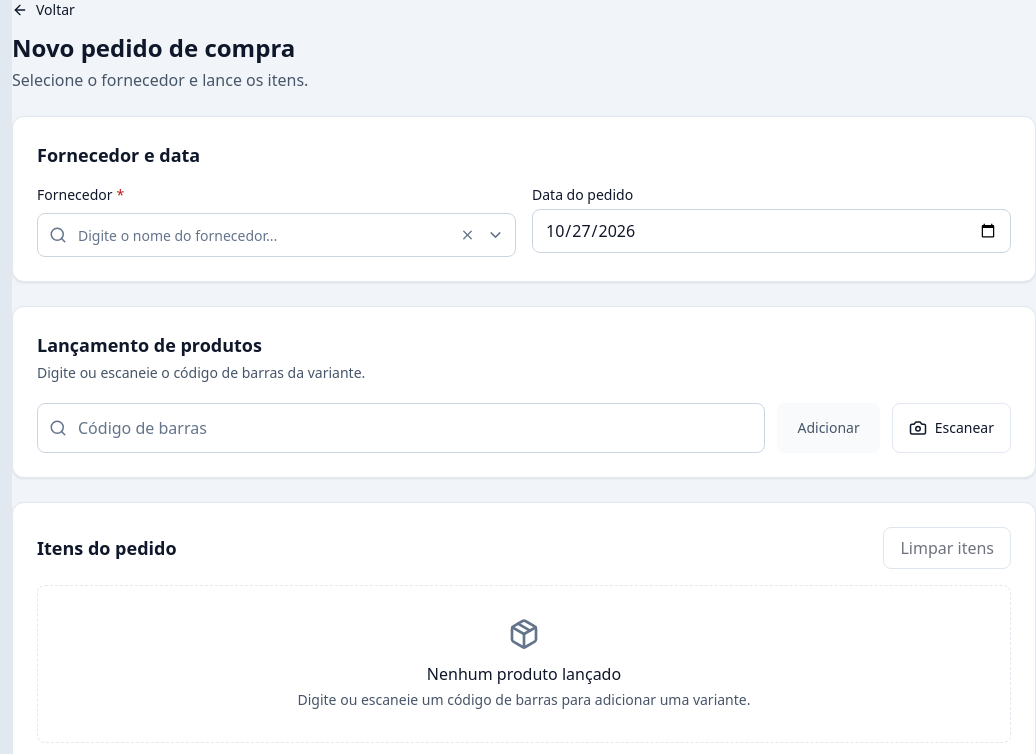
Test: PurchaseCreatePage › despesas da compra inválidas bloqueiam o envio
The width and height of the screenshot is (1036, 754).
Type "Acm" into the dropdown with placeholder "Digite o nome do fornecedor..." at (276, 235), box x1=37 y1=213 x2=516 y2=257
(page scrolled)
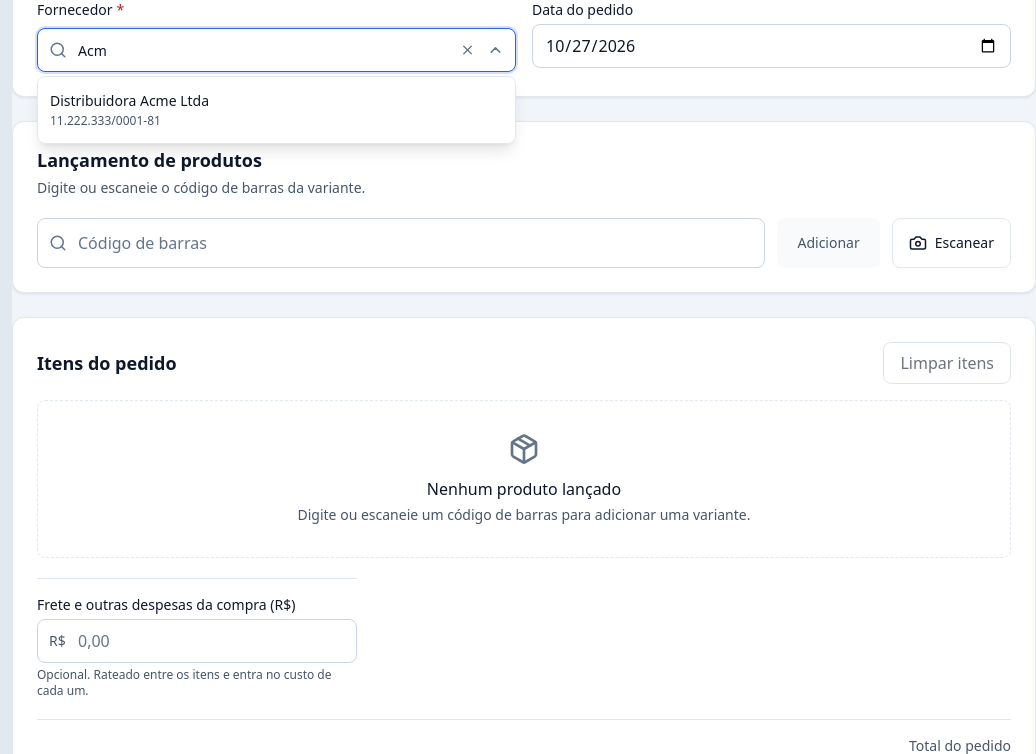
Click the text "Distribuidora Acme Ltda" at (130, 101), box x1=50 y1=91 x2=209 y2=111
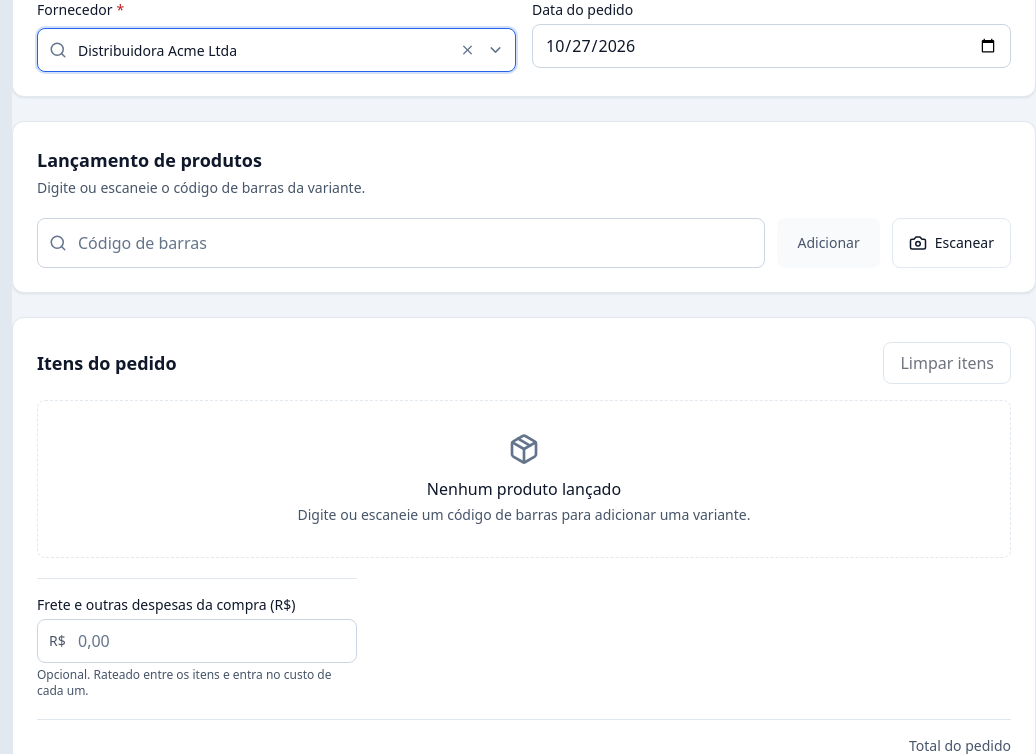
Type "111" into the field named "Código de barras do produto" at (401, 243), box x1=37 y1=218 x2=766 y2=268
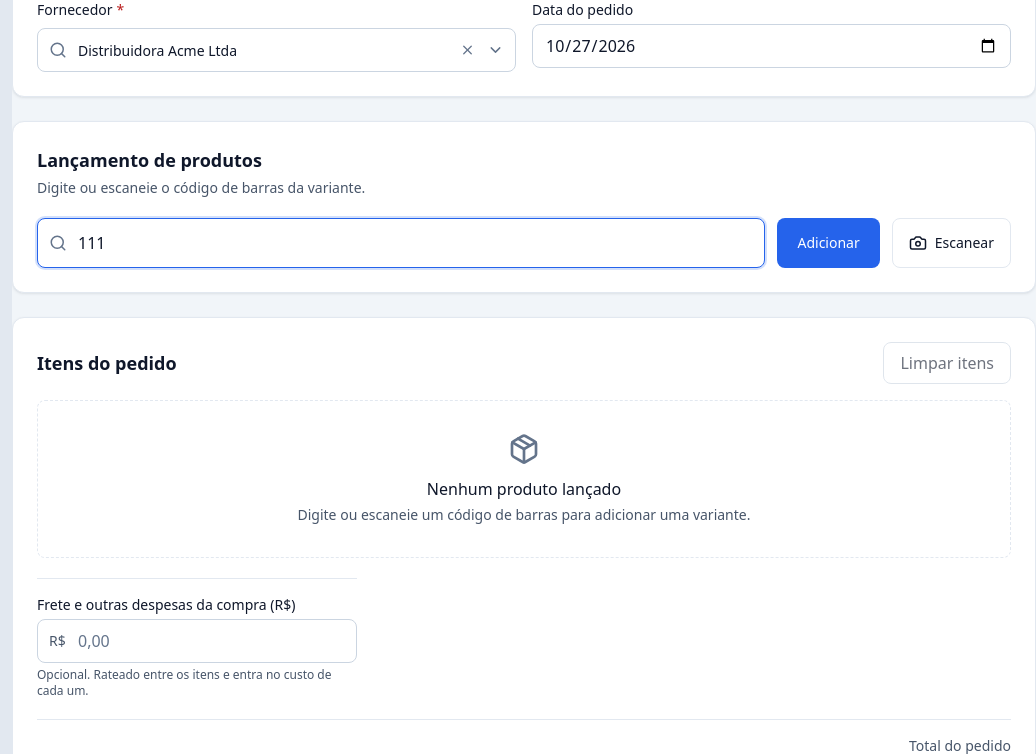
Click the button "Adicionar" at (829, 243), box x1=778 y1=218 x2=880 y2=268
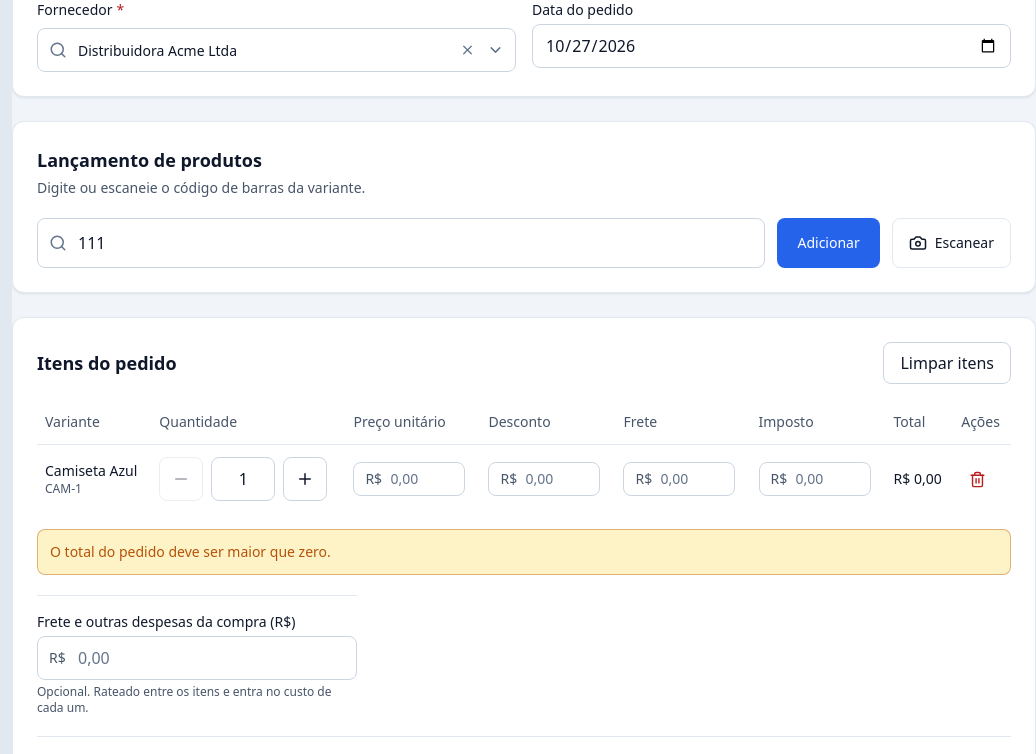
Result: the field named "Quantidade de Camiseta Azul" is shown at x1=211 y1=457 x2=275 y2=501
Type "10" into the field named "Preço unitário de Camiseta Azul" at (409, 479), box x1=353 y1=462 x2=465 y2=496
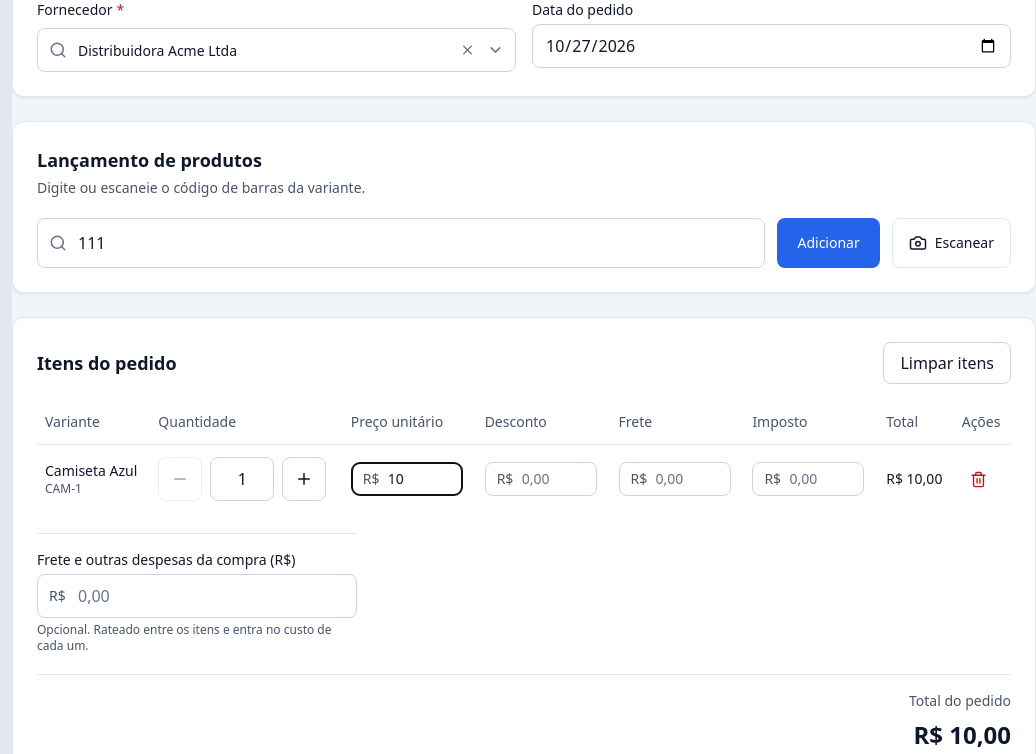
Type "1.23,4" into the field labelled "Frete e outras despesas da compra (R$)" at (197, 596), box x1=37 y1=574 x2=357 y2=618
(page scrolled)
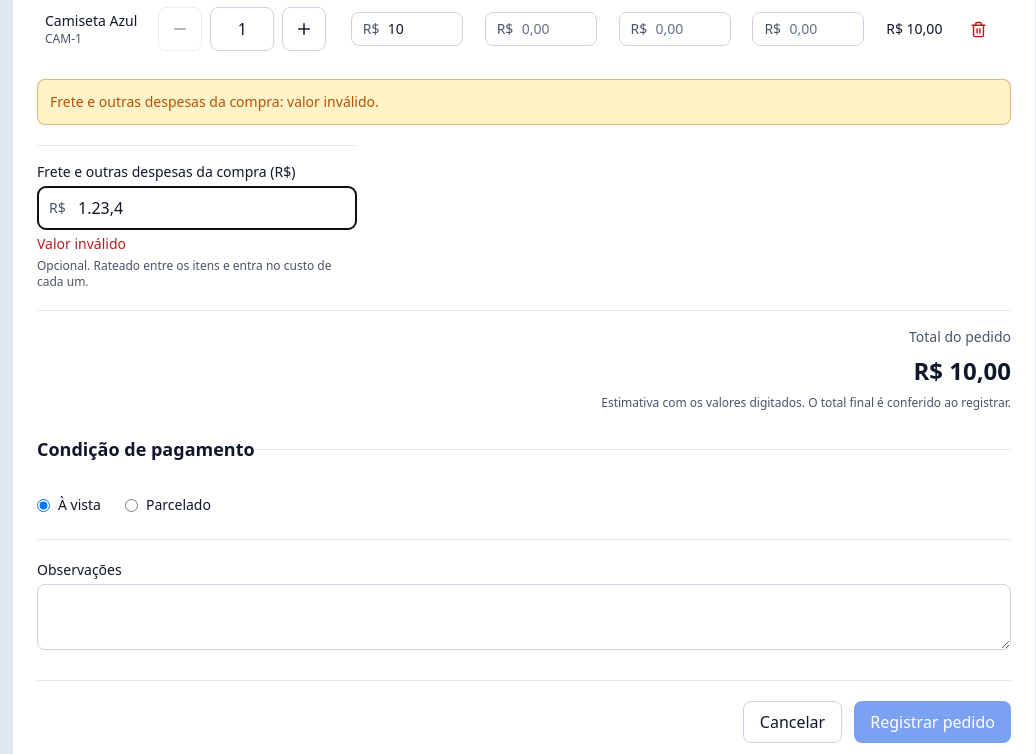
Result: the text "Valor inválido" is shown at x1=37 y1=234 x2=126 y2=253
Result: the button "Registrar pedido" is disabled at x1=854 y1=701 x2=1011 y2=743
